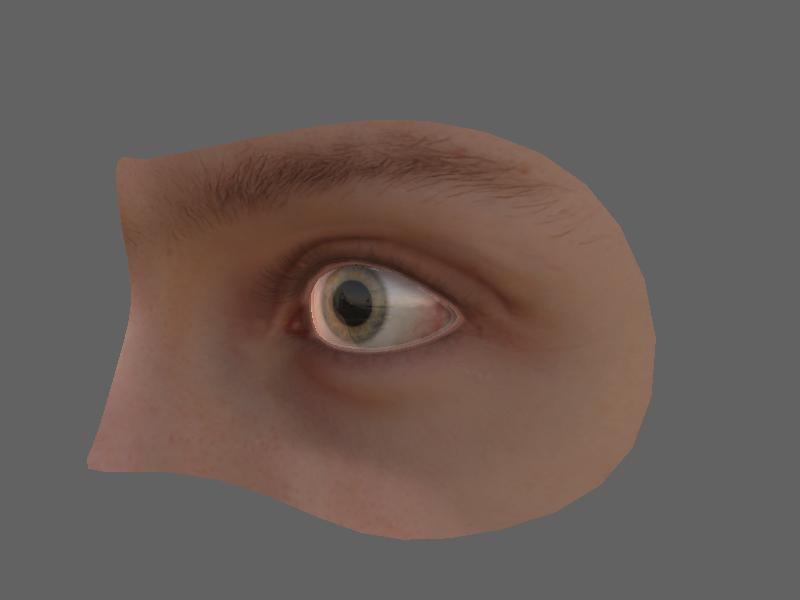iris: (315, 269, 395, 347)
